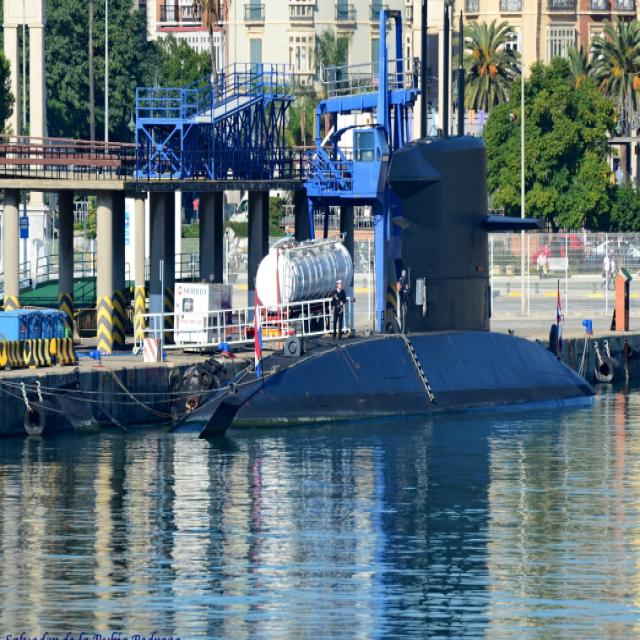submarine: (176, 1, 609, 437)
